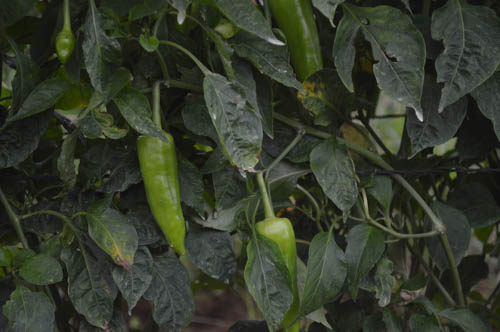ChiliPepper: (136, 134, 187, 257), (254, 219, 304, 316), (276, 4, 326, 74)
